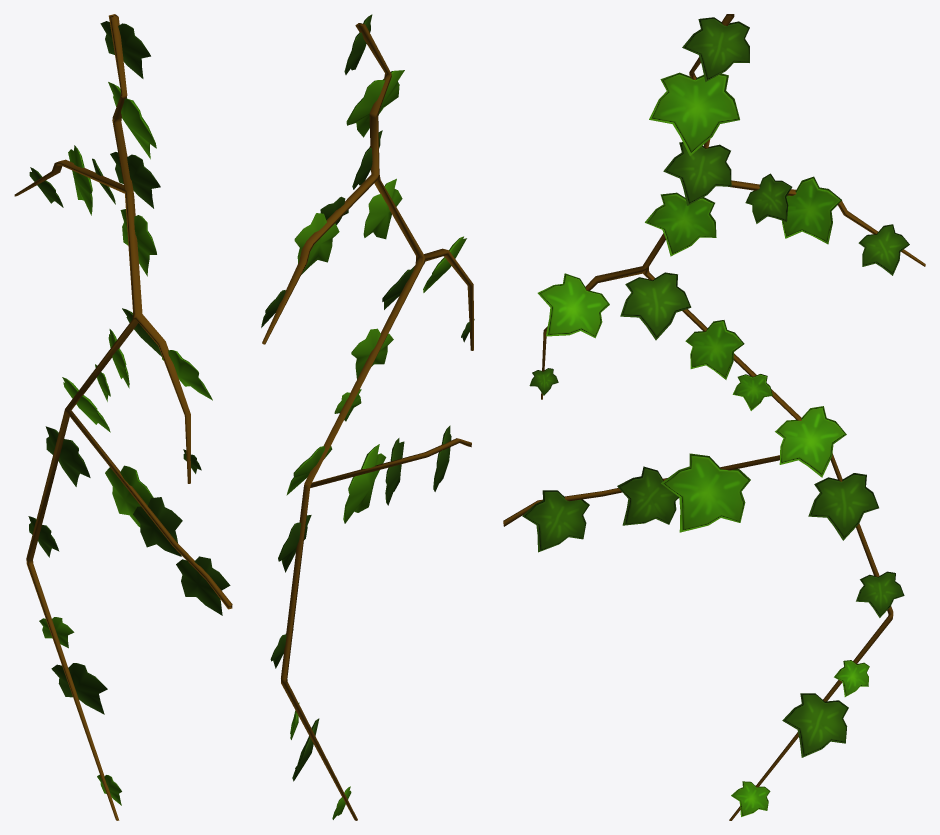
Rendered from Model_Bg_lvy3.fbx.
3 views of the same model, side by side, from view 1: azimuth 30°, elevation 25°; view 2: azimuth 150°, elevation 25°; view 3: azimuth 270°, elevation 25° (orthographic).
Parts seen in each view (by area): view 1: pCube1, pasted__pasted__pCube36, pasted__pasted__pCube27, pasted__pasted__pCube33, pasted__pasted__pCube28, pasted__pasted__pCube5, pasted__pasted__pCube20, pasted__pasted__pCube19, pasted__pasted__pCube29, pasted__pasted__pCube23, pasted__pasted__pCube35, pasted__pasted__pCube22 (+5 smaller); view 2: pCube1, pasted__pasted__pCube19, pasted__pasted__pCube28, pasted__pasted__pCube22, pasted__pasted__pCube23, pasted__pasted__pCube25, pasted__pasted__pCube27, pasted__pasted__pCube29, pasted__pasted__pCube32, pasted__pasted__pCube5, pasted__pasted__pCube36, pasted__pasted__pCube35 (+3 smaller); view 3: pCube1, pasted__pasted__pCube19, pasted__pasted__pCube28, pasted__pasted__pCube35, pasted__pasted__pCube32, pasted__pasted__pCube24, pasted__pasted__pCube29, pasted__pasted__pCube23, pasted__pasted__pCube5, pasted__pasted__pCube33, pasted__pasted__pCube20, pasted__pasted__pCube36 (+9 smaller).
Boxes of the visible parts, x1,y1,x2,y2 form: pCube1: (14,14,232,820); pasted__pasted__pCube36: (176,556,230,615); pasted__pasted__pCube27: (133,497,182,556); pasted__pasted__pCube33: (51,663,107,714); pasted__pasted__pCube28: (105,465,153,527); pasted__pasted__pCube5: (100,21,150,78); pasted__pasted__pCube20: (110,152,160,208); pasted__pasted__pCube19: (108,82,156,159); pasted__pasted__pCube29: (45,426,90,486); pasted__pasted__pCube23: (120,209,156,276); pasted__pasted__pCube35: (162,350,212,400); pasted__pasted__pCube22: (68,145,92,215); pCube1: (262,23,473,820); pasted__pasted__pCube19: (346,70,404,137); pasted__pasted__pCube28: (343,444,386,523); pasted__pasted__pCube22: (294,213,339,274); pasted__pasted__pCube23: (363,178,402,239); pasted__pasted__pCube25: (351,328,393,379); pasted__pasted__pCube27: (385,438,404,505); pasted__pasted__pCube29: (278,515,311,572); pasted__pasted__pCube32: (286,446,332,495); pasted__pasted__pCube5: (344,14,372,74); pasted__pasted__pCube36: (433,425,451,491); pasted__pasted__pCube35: (423,236,466,292); pCube1: (503,14,925,820); pasted__pasted__pCube19: (649,72,739,155); pasted__pasted__pCube28: (661,453,750,532); pasted__pasted__pCube35: (537,273,609,338); pasted__pasted__pCube32: (775,406,846,477); pasted__pasted__pCube24: (620,272,691,340); pasted__pasted__pCube29: (808,473,878,540); pasted__pasted__pCube23: (645,192,716,256); pasted__pasted__pCube5: (682,17,749,81); pasted__pasted__pCube33: (782,693,848,757); pasted__pasted__pCube20: (663,142,731,205); pasted__pasted__pCube36: (522,490,589,552).
Bounding box in the file's own units: 19.79 × 300 × 143.
